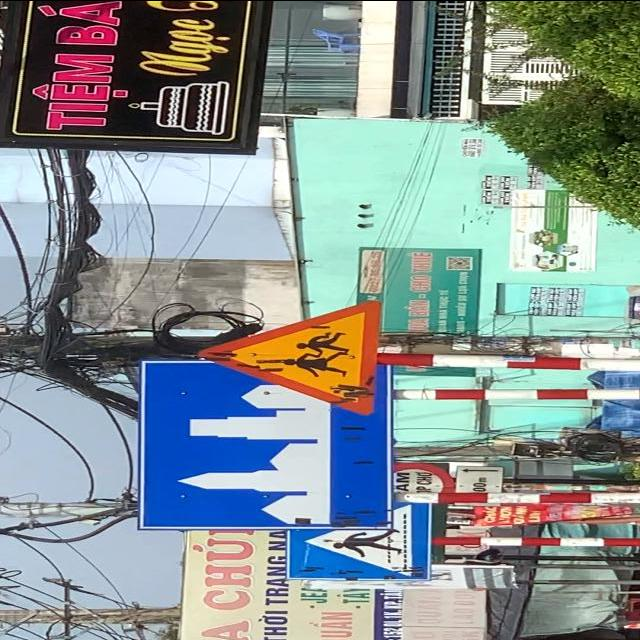W-225: (198, 297, 382, 411)
